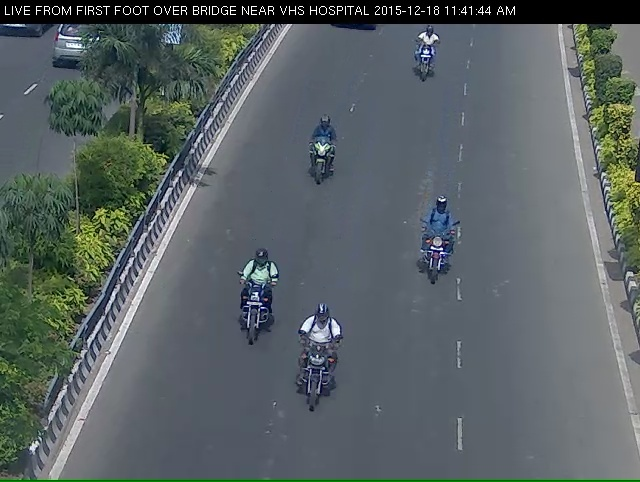Person: (283, 331, 342, 447), (218, 272, 269, 381), (414, 215, 458, 305), (298, 136, 342, 204), (407, 33, 443, 92)
